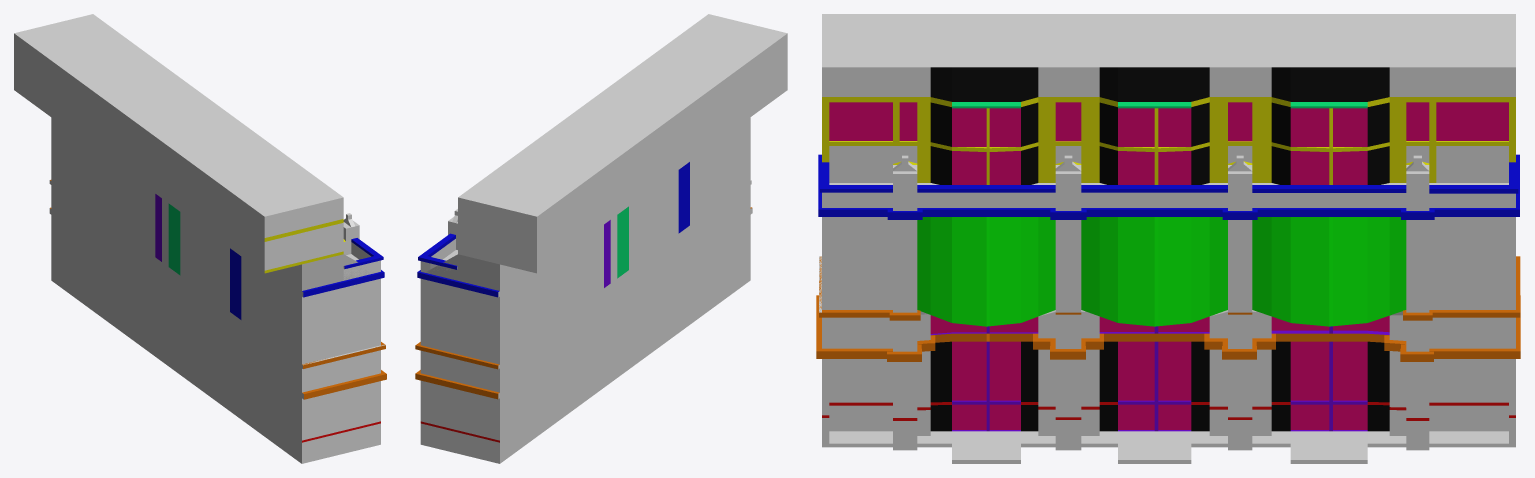
The model's file is shop02_uv.fbx.
The picture shows the model from 3 angles, left to right: view 1: azimuth 30°, elevation 25°; view 2: azimuth 150°, elevation 25°; view 3: azimuth 270°, elevation 25°; orthographic projection. The views are drawn at different scales.
Visible parts, largest first — view 1: Cube; view 2: Cube; view 3: Cube.
Boxes of the visible parts, box(x1,y1,x2,y2) form: Cube: box(14, 14, 386, 463); Cube: box(415, 14, 787, 463); Cube: box(816, 14, 1520, 463).
Size of the model in its own units: 1414 by 2461 by 4428.
